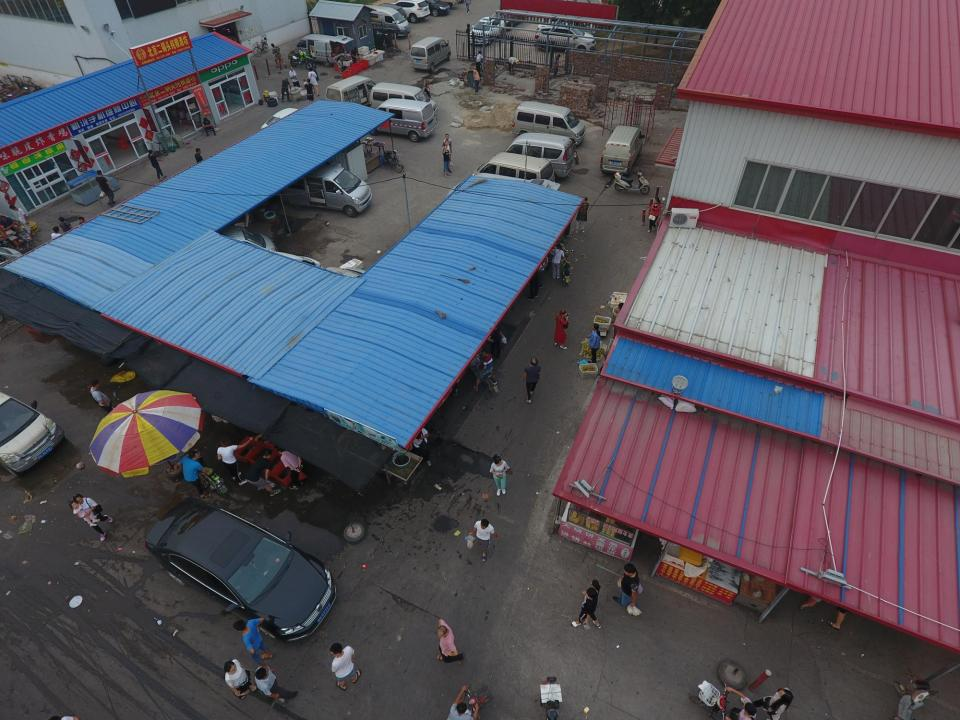car: (142, 498, 340, 644), (279, 158, 373, 218), (0, 395, 65, 474), (356, 3, 412, 38), (535, 22, 598, 53), (294, 33, 347, 64), (470, 15, 510, 45), (387, 0, 430, 24)
van: (472, 152, 556, 194), (512, 100, 586, 146), (504, 132, 575, 178), (369, 98, 438, 142), (369, 81, 436, 121), (599, 124, 644, 176), (326, 74, 378, 110), (409, 37, 452, 70)
